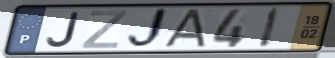4: (211, 7, 246, 49)
A: (159, 8, 209, 49)
I: (256, 6, 283, 50)
J: (124, 6, 170, 52), (44, 11, 81, 49)
Z: (79, 9, 130, 50)
